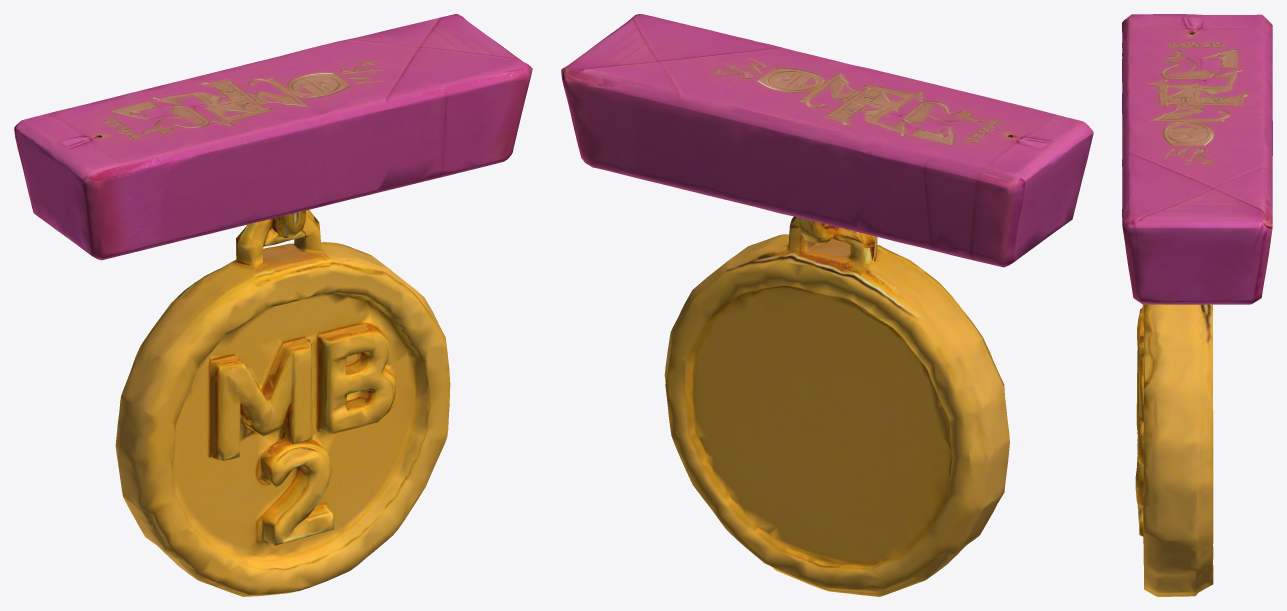
The model's file is complete_level.glb.
3 views of the same model, side by side, from view 1: azimuth 30°, elevation 25°; view 2: azimuth 150°, elevation 25°; view 3: azimuth 270°, elevation 25° (orthographic). The views are drawn at different scales.
Bounding box in the file's own units: 1.95 × 2 × 0.5895.
1 material, 1 textured.
